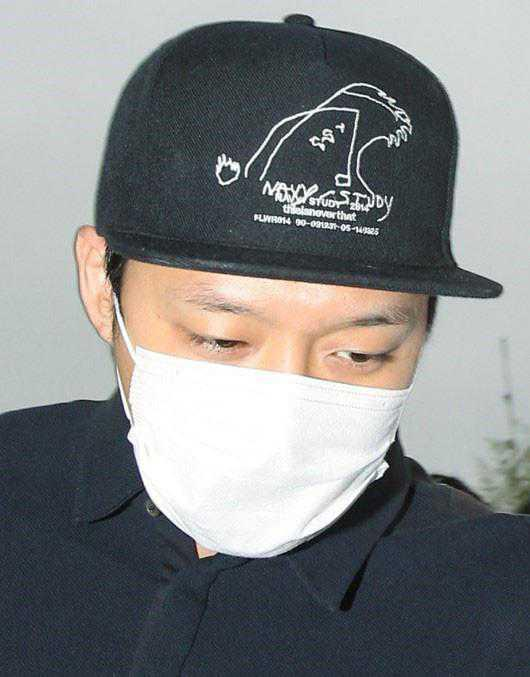mask: (72, 295, 406, 565)
